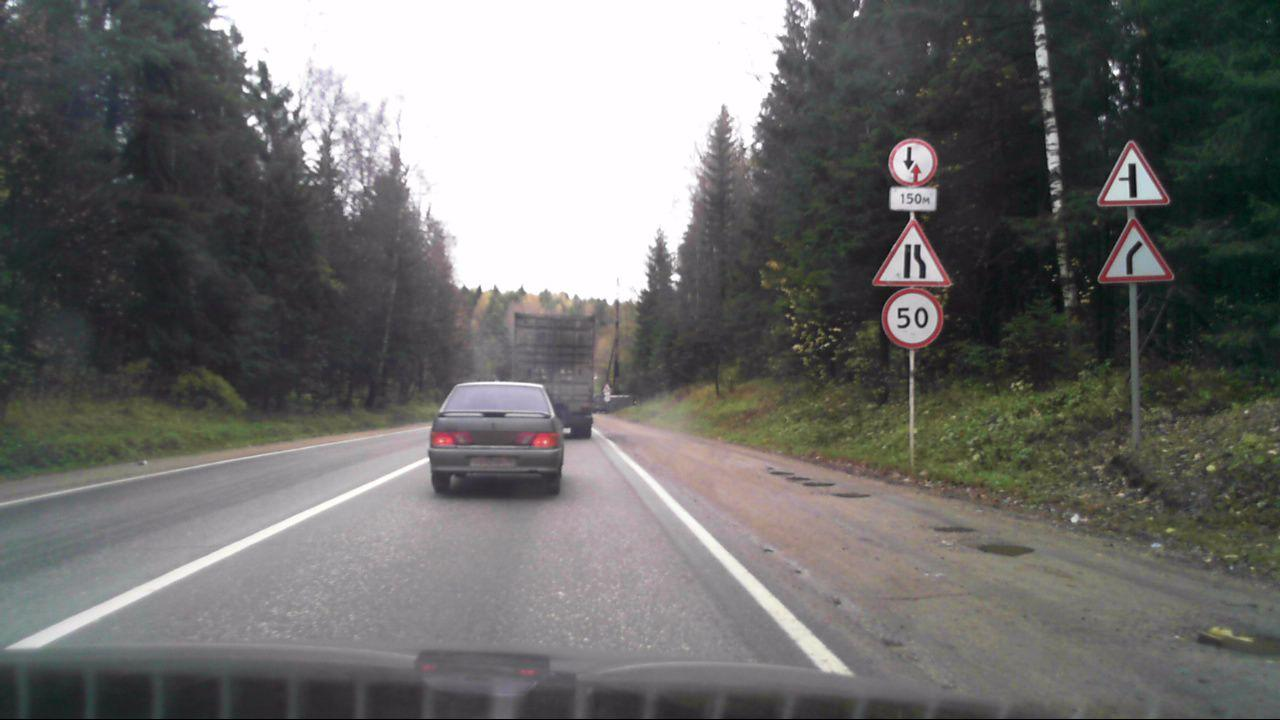1_11_1: (1096, 216, 1173, 287)
1_20_2: (871, 218, 951, 288)
2_3_3: (1096, 140, 1171, 208)
2_6: (887, 137, 939, 186)
3_24: (882, 288, 944, 349)
8_1_1: (887, 185, 939, 213)
